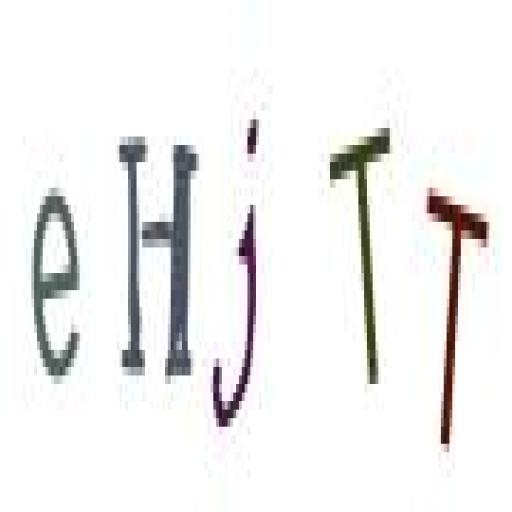H: (114, 118, 199, 394)
T: (322, 126, 402, 391), (424, 163, 493, 462)
e: (30, 178, 84, 389)
j: (209, 110, 266, 442)
